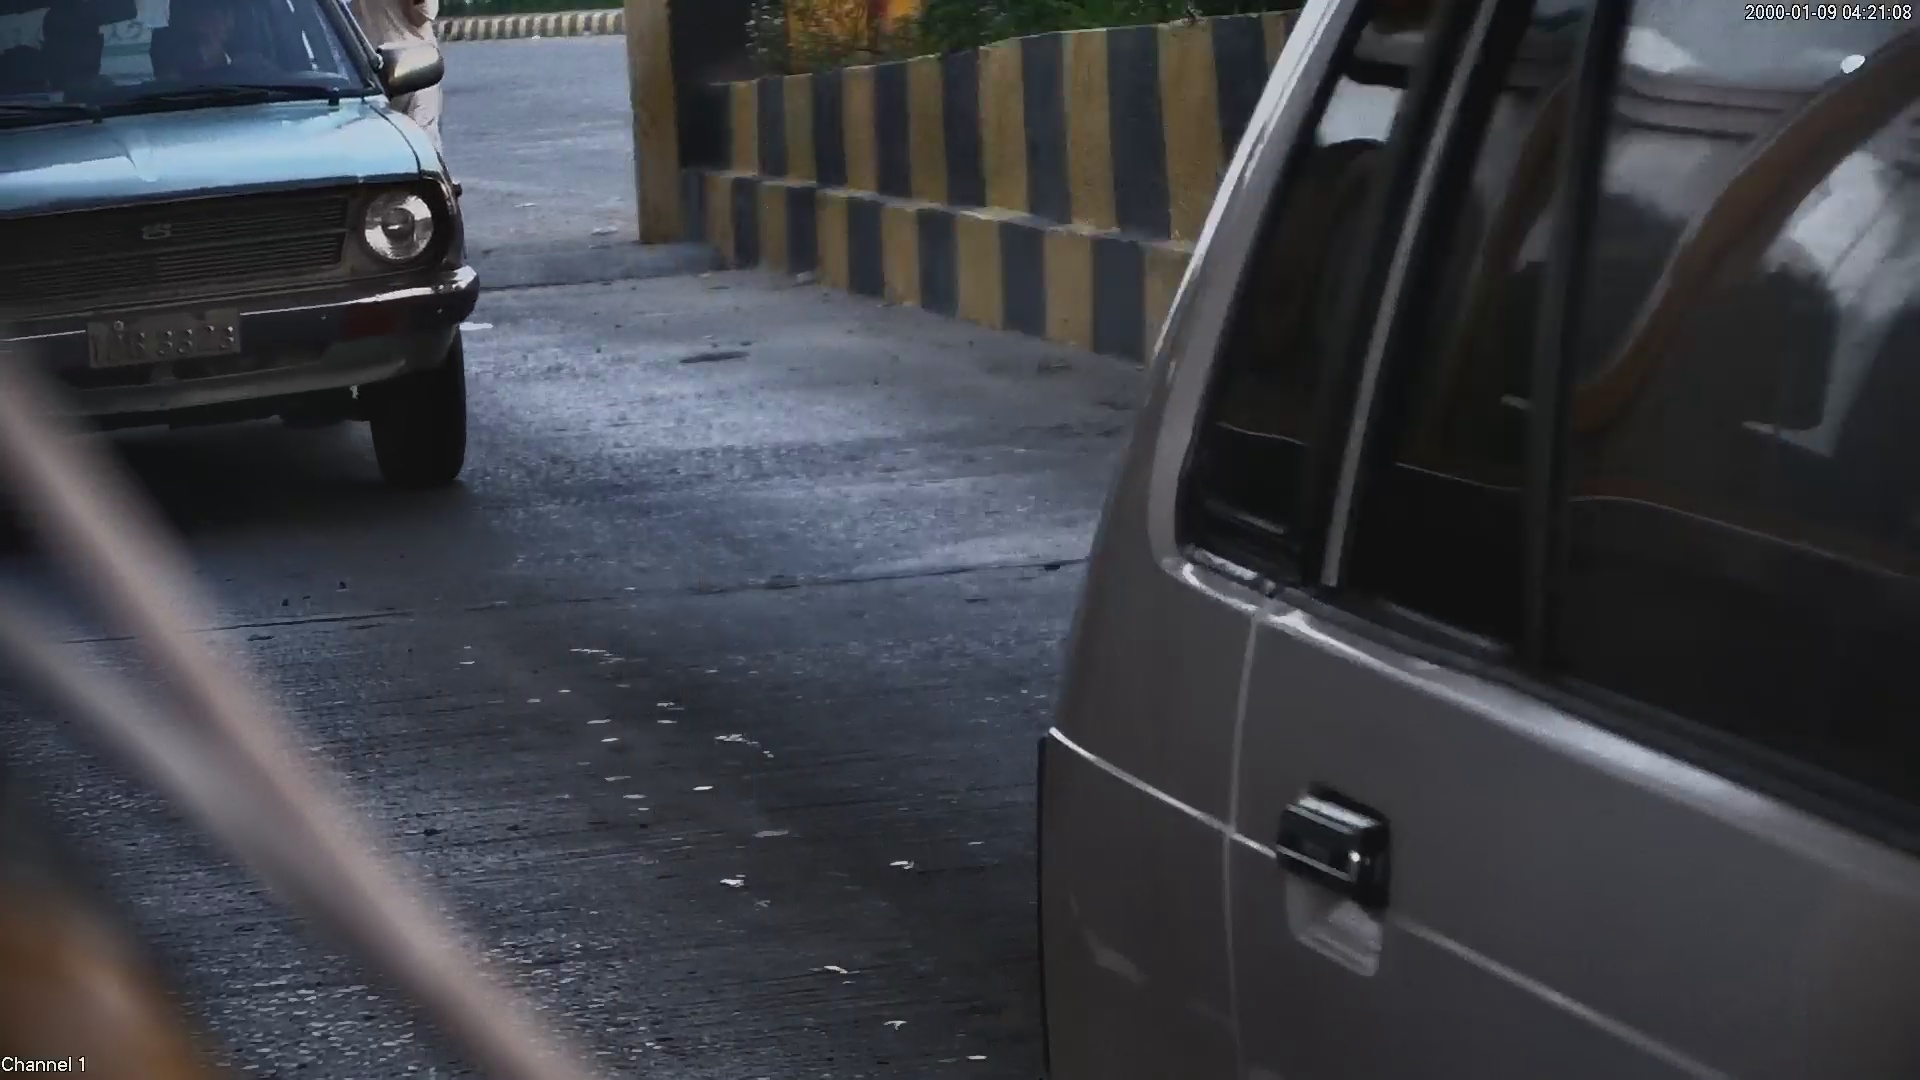Number_Plate: (71, 303, 260, 370)
